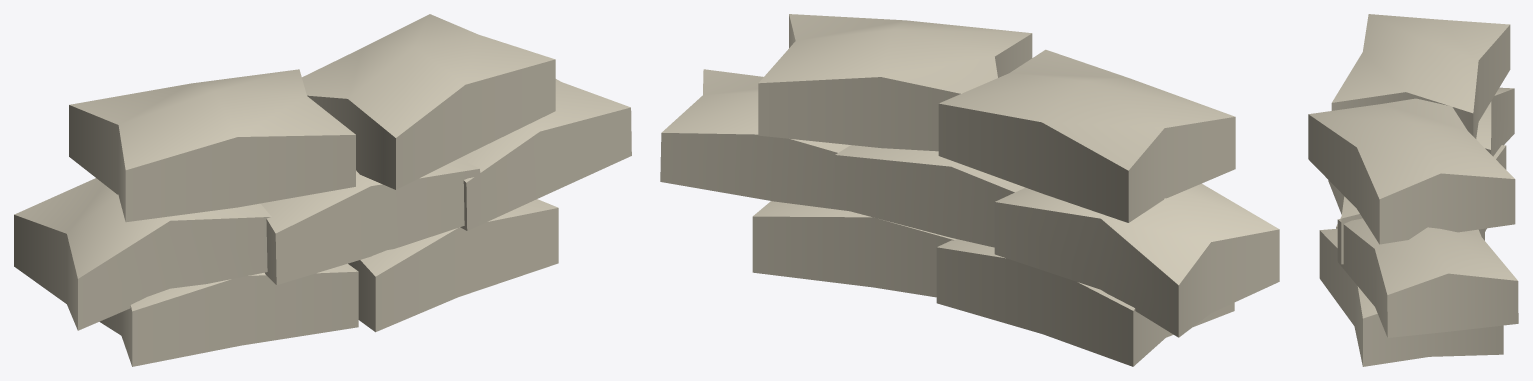
The model's file is SackTrench_Small.fbx.
3 renders of one model, left to right at view 1: azimuth 30°, elevation 25°; view 2: azimuth 150°, elevation 25°; view 3: azimuth 270°, elevation 25°, orthographic. The views are drawn at different scales.
Parts seen in each view (by area): view 1: SackTrench_Small.001; view 2: SackTrench_Small.001; view 3: SackTrench_Small.001.
Part boxes in pixels (bbox=[...]): SackTrench_Small.001: bbox=[14, 14, 631, 366]; SackTrench_Small.001: bbox=[660, 14, 1279, 366]; SackTrench_Small.001: bbox=[1308, 14, 1518, 366].
Size of the model in its own units: 2.48 by 1 by 0.9209.
